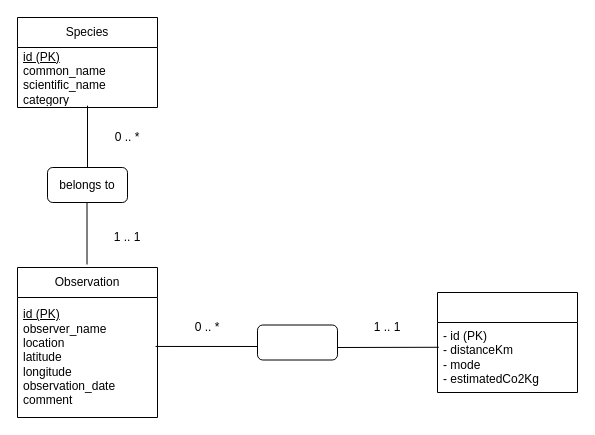
The diagram is 595 pixels wide and 435 high, and some of its shapes have lost their labels. The box of each missing label's shape, as (x1, y1, x2, y2) in pixels:
concerns: (256, 324, 338, 360)
travel_log: (436, 292, 578, 392)
